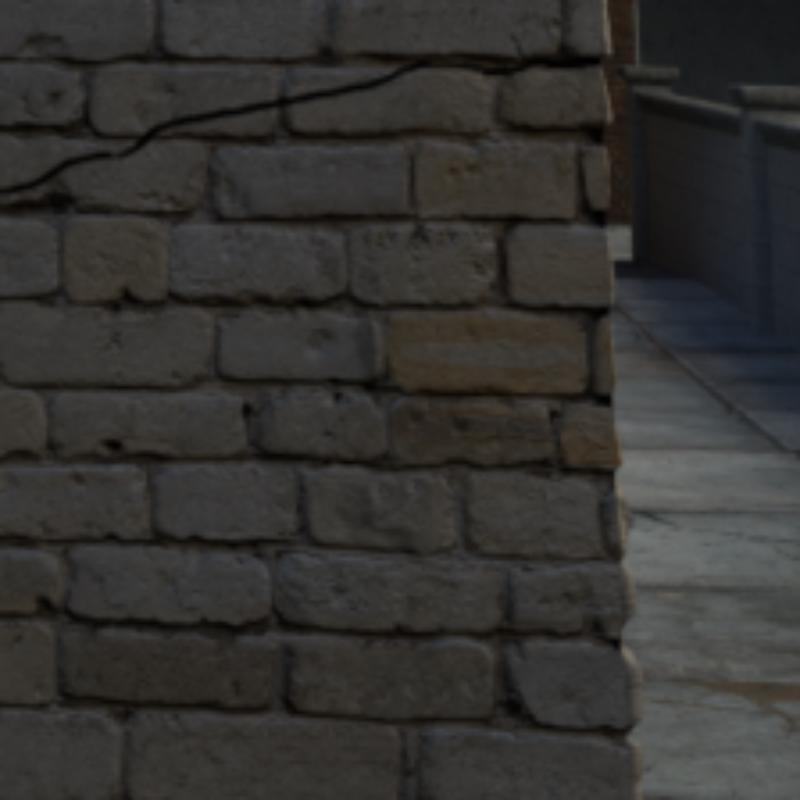crack: (0, 61, 462, 193), (469, 57, 596, 71)
